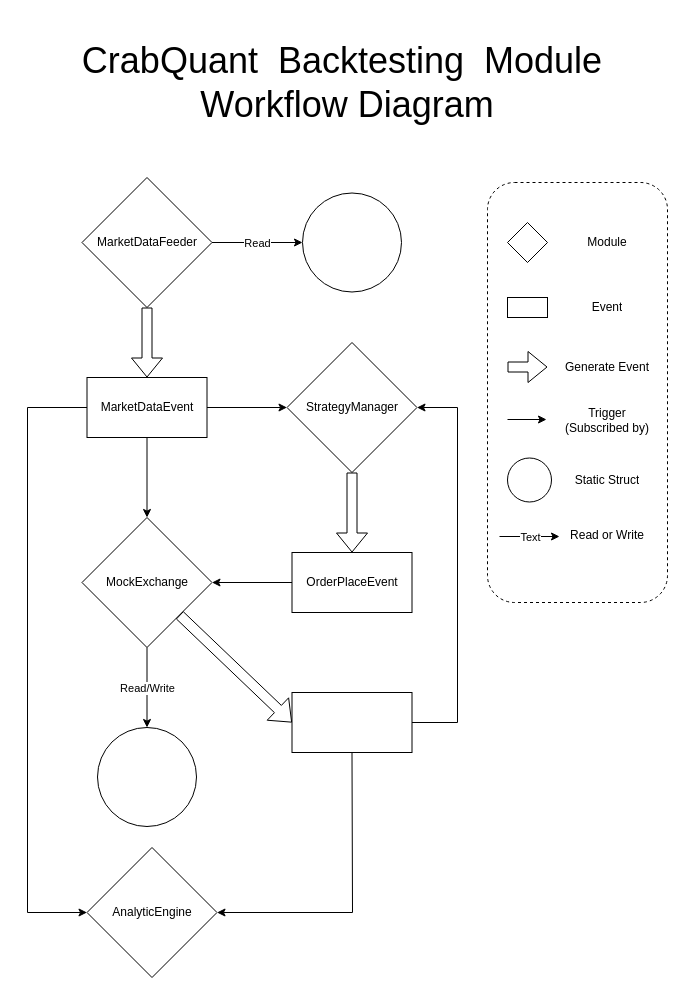
This 685x995 diagram has some shape labels left out. Here are the shapes that lost their labels. From the top down, the centre of each, then its label:
At point (352, 242): "LocalMarketData".
At point (351, 722): "PortfolioInfo".
At point (146, 776): "Portfolio".
